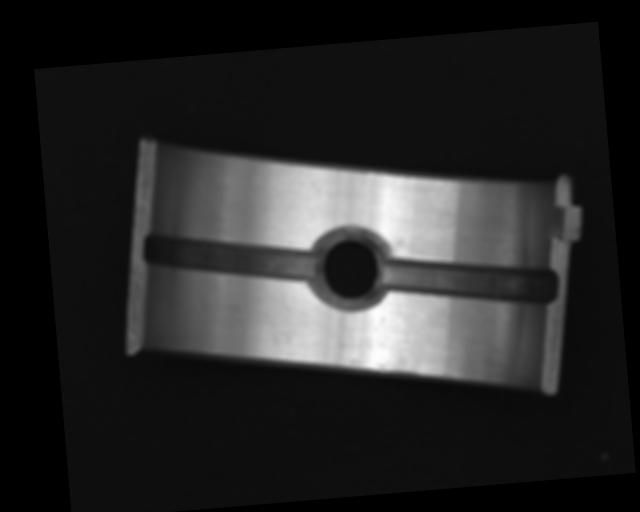gap: (143, 220, 319, 295), (379, 245, 558, 317)
hole: (310, 228, 387, 313)
